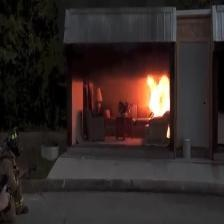fire: (134, 65, 173, 115)
